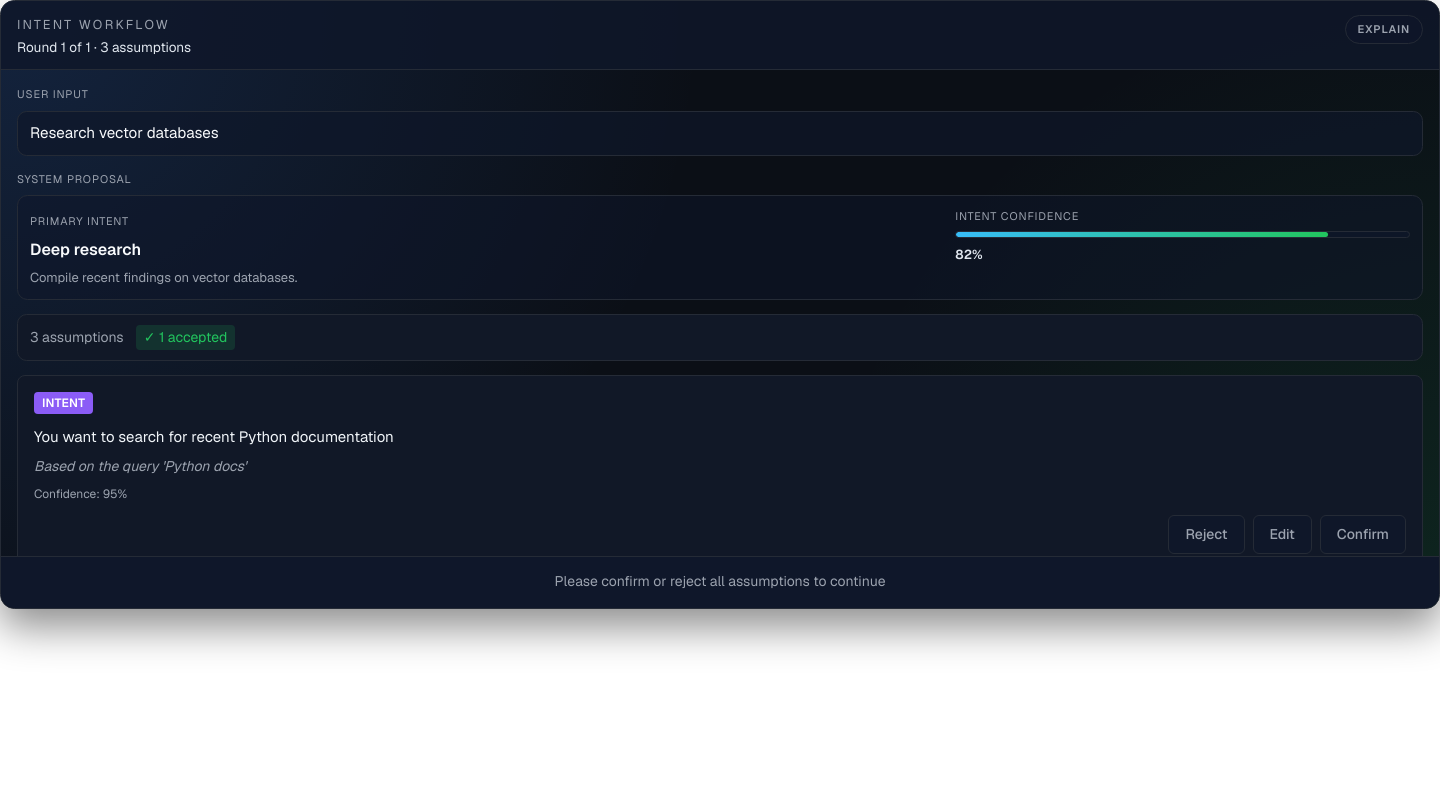
Test: AssumptionsPanel › toggles reasoning and alternatives when explain is clicked
Expected: the text "The prompt mentions research and sources." is not shown
Click the button "Explain" at {"x": 1384, "y": 29}, box [1345,15,1423,44]
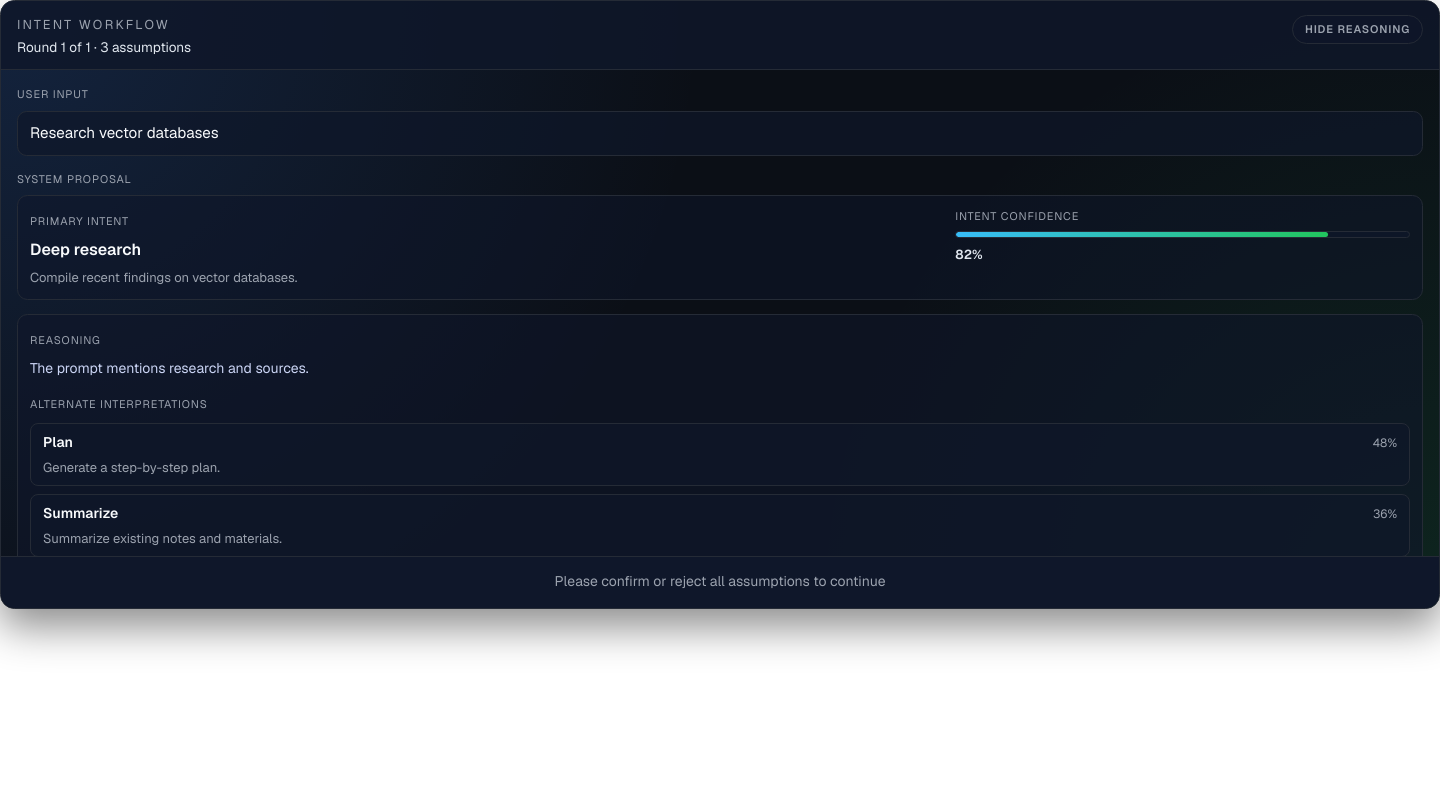
Now the text "The prompt mentions research and sources." is shown, box [30,359,308,377]
Now the text "Alternate interpretations" is shown, box [30,397,208,411]
Now the text "Plan" is shown, box [43,432,73,453]
